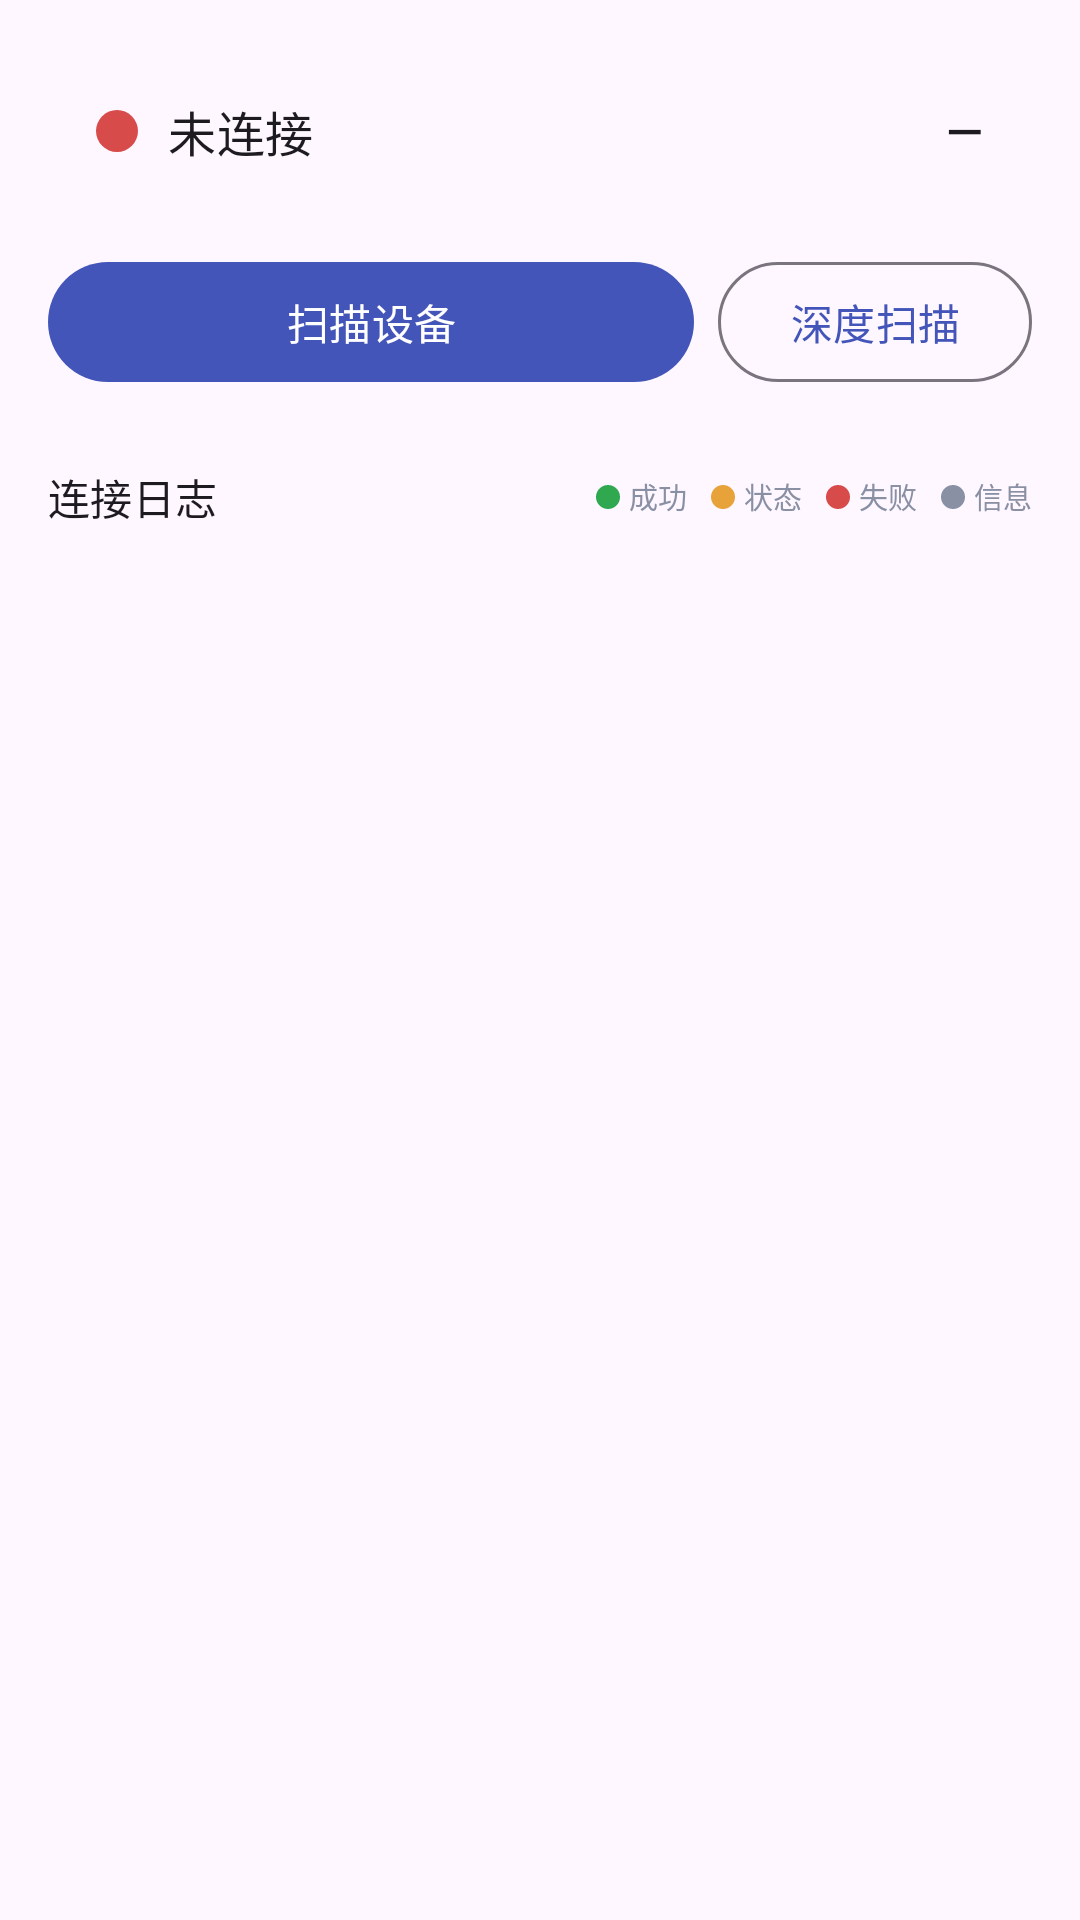

Where icons sit on this 1080×1920 app screen, as {"x1": x1, "y1": y1, "x2": x2, "y2": y2}:
dot: {"x1": 96, "y1": 110, "x2": 138, "y2": 152}, {"x1": 596, "y1": 485, "x2": 620, "y2": 509}, {"x1": 711, "y1": 485, "x2": 735, "y2": 509}, {"x1": 826, "y1": 485, "x2": 850, "y2": 509}, {"x1": 941, "y1": 485, "x2": 965, "y2": 509}
